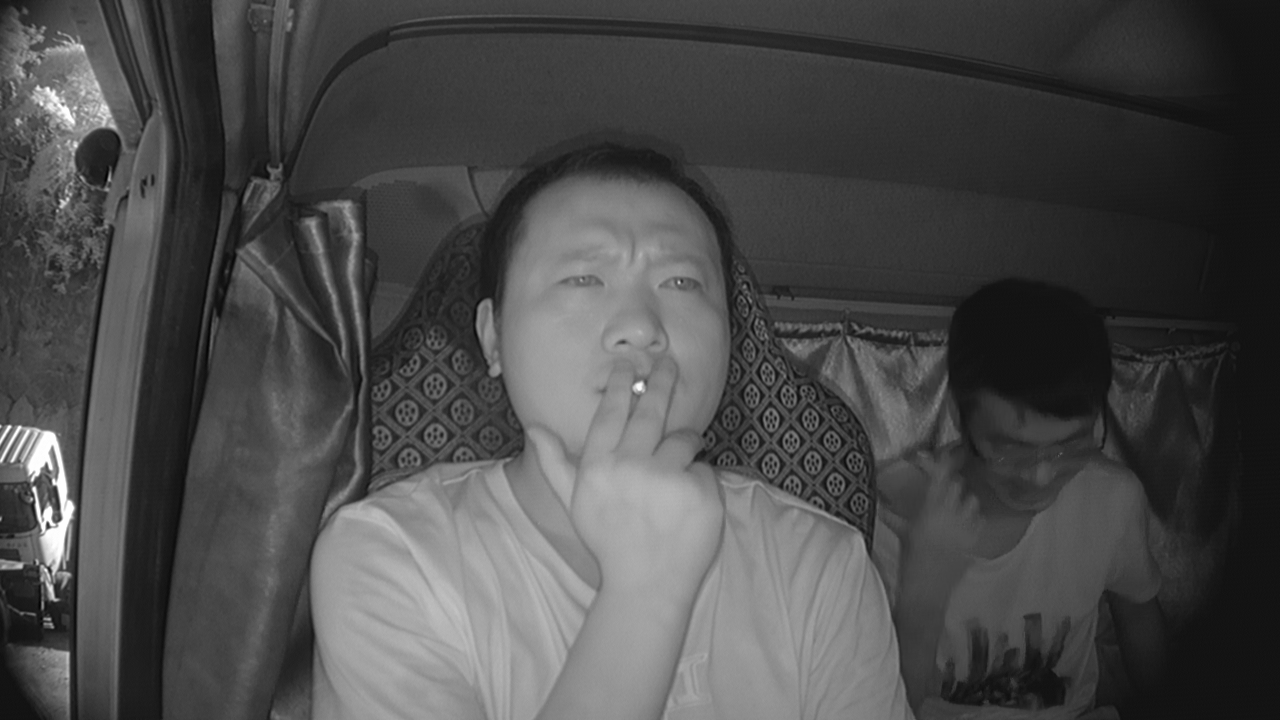hand: (580, 365, 723, 530)
